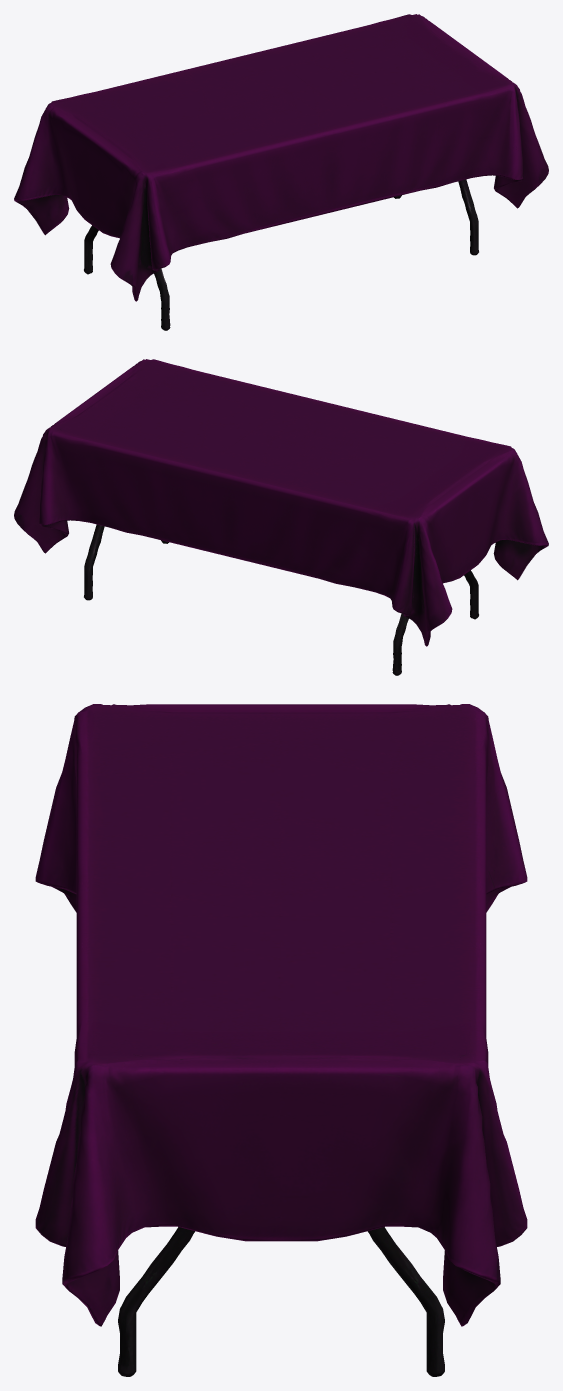
File: BNQ_TBLE_PLUM_LINEN_H_0630194317_texture.glb
3 renders of one model, top to bottom at view 1: azimuth 30°, elevation 25°; view 2: azimuth 150°, elevation 25°; view 3: azimuth 270°, elevation 25°, orthographic. The views are drawn at different scales.
Visible parts, largest first — view 1: Mesh_0.002; view 2: Mesh_0.002; view 3: Mesh_0.002.
Part boxes in pixels (x1,y1,x2,y2): Mesh_0.002: [14, 14, 548, 330]; Mesh_0.002: [14, 359, 548, 675]; Mesh_0.002: [35, 704, 527, 1376].
Size of the model in its own units: 2.04 by 0.762 by 1.
Materials: 1 (1 with a texture image).
